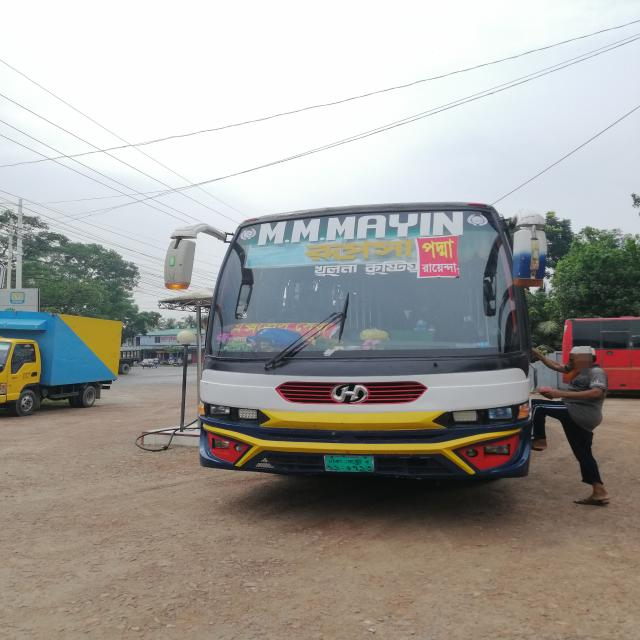Bus: (158, 190, 551, 509)
